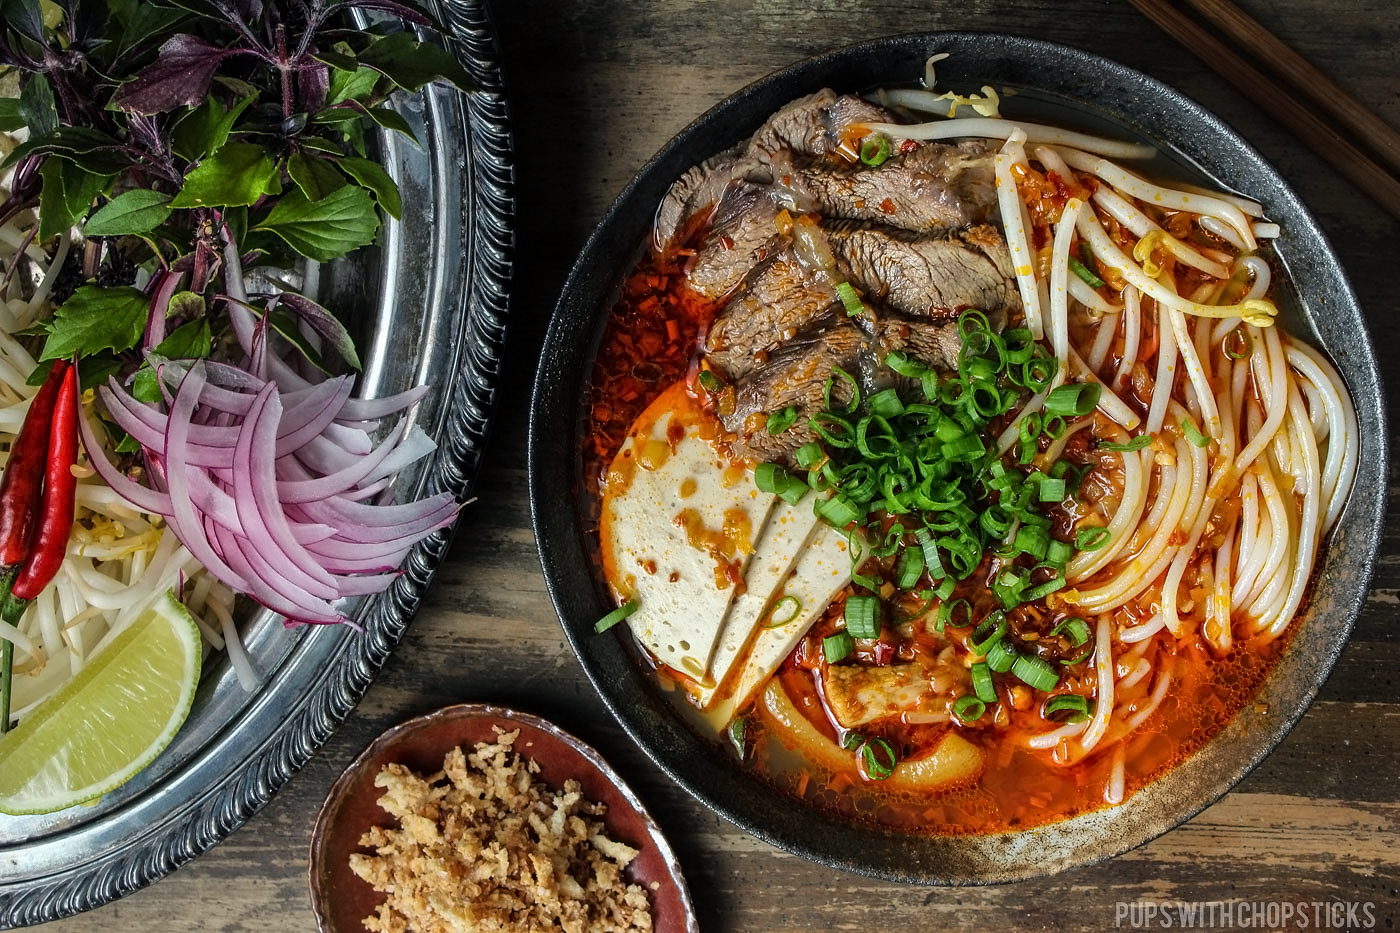beef: (710, 275, 860, 445), (846, 232, 1017, 351), (658, 145, 787, 301), (801, 158, 969, 238), (775, 101, 931, 165)
chamoc: (589, 380, 783, 703)
onion: (144, 365, 375, 614), (863, 394, 1030, 578)
